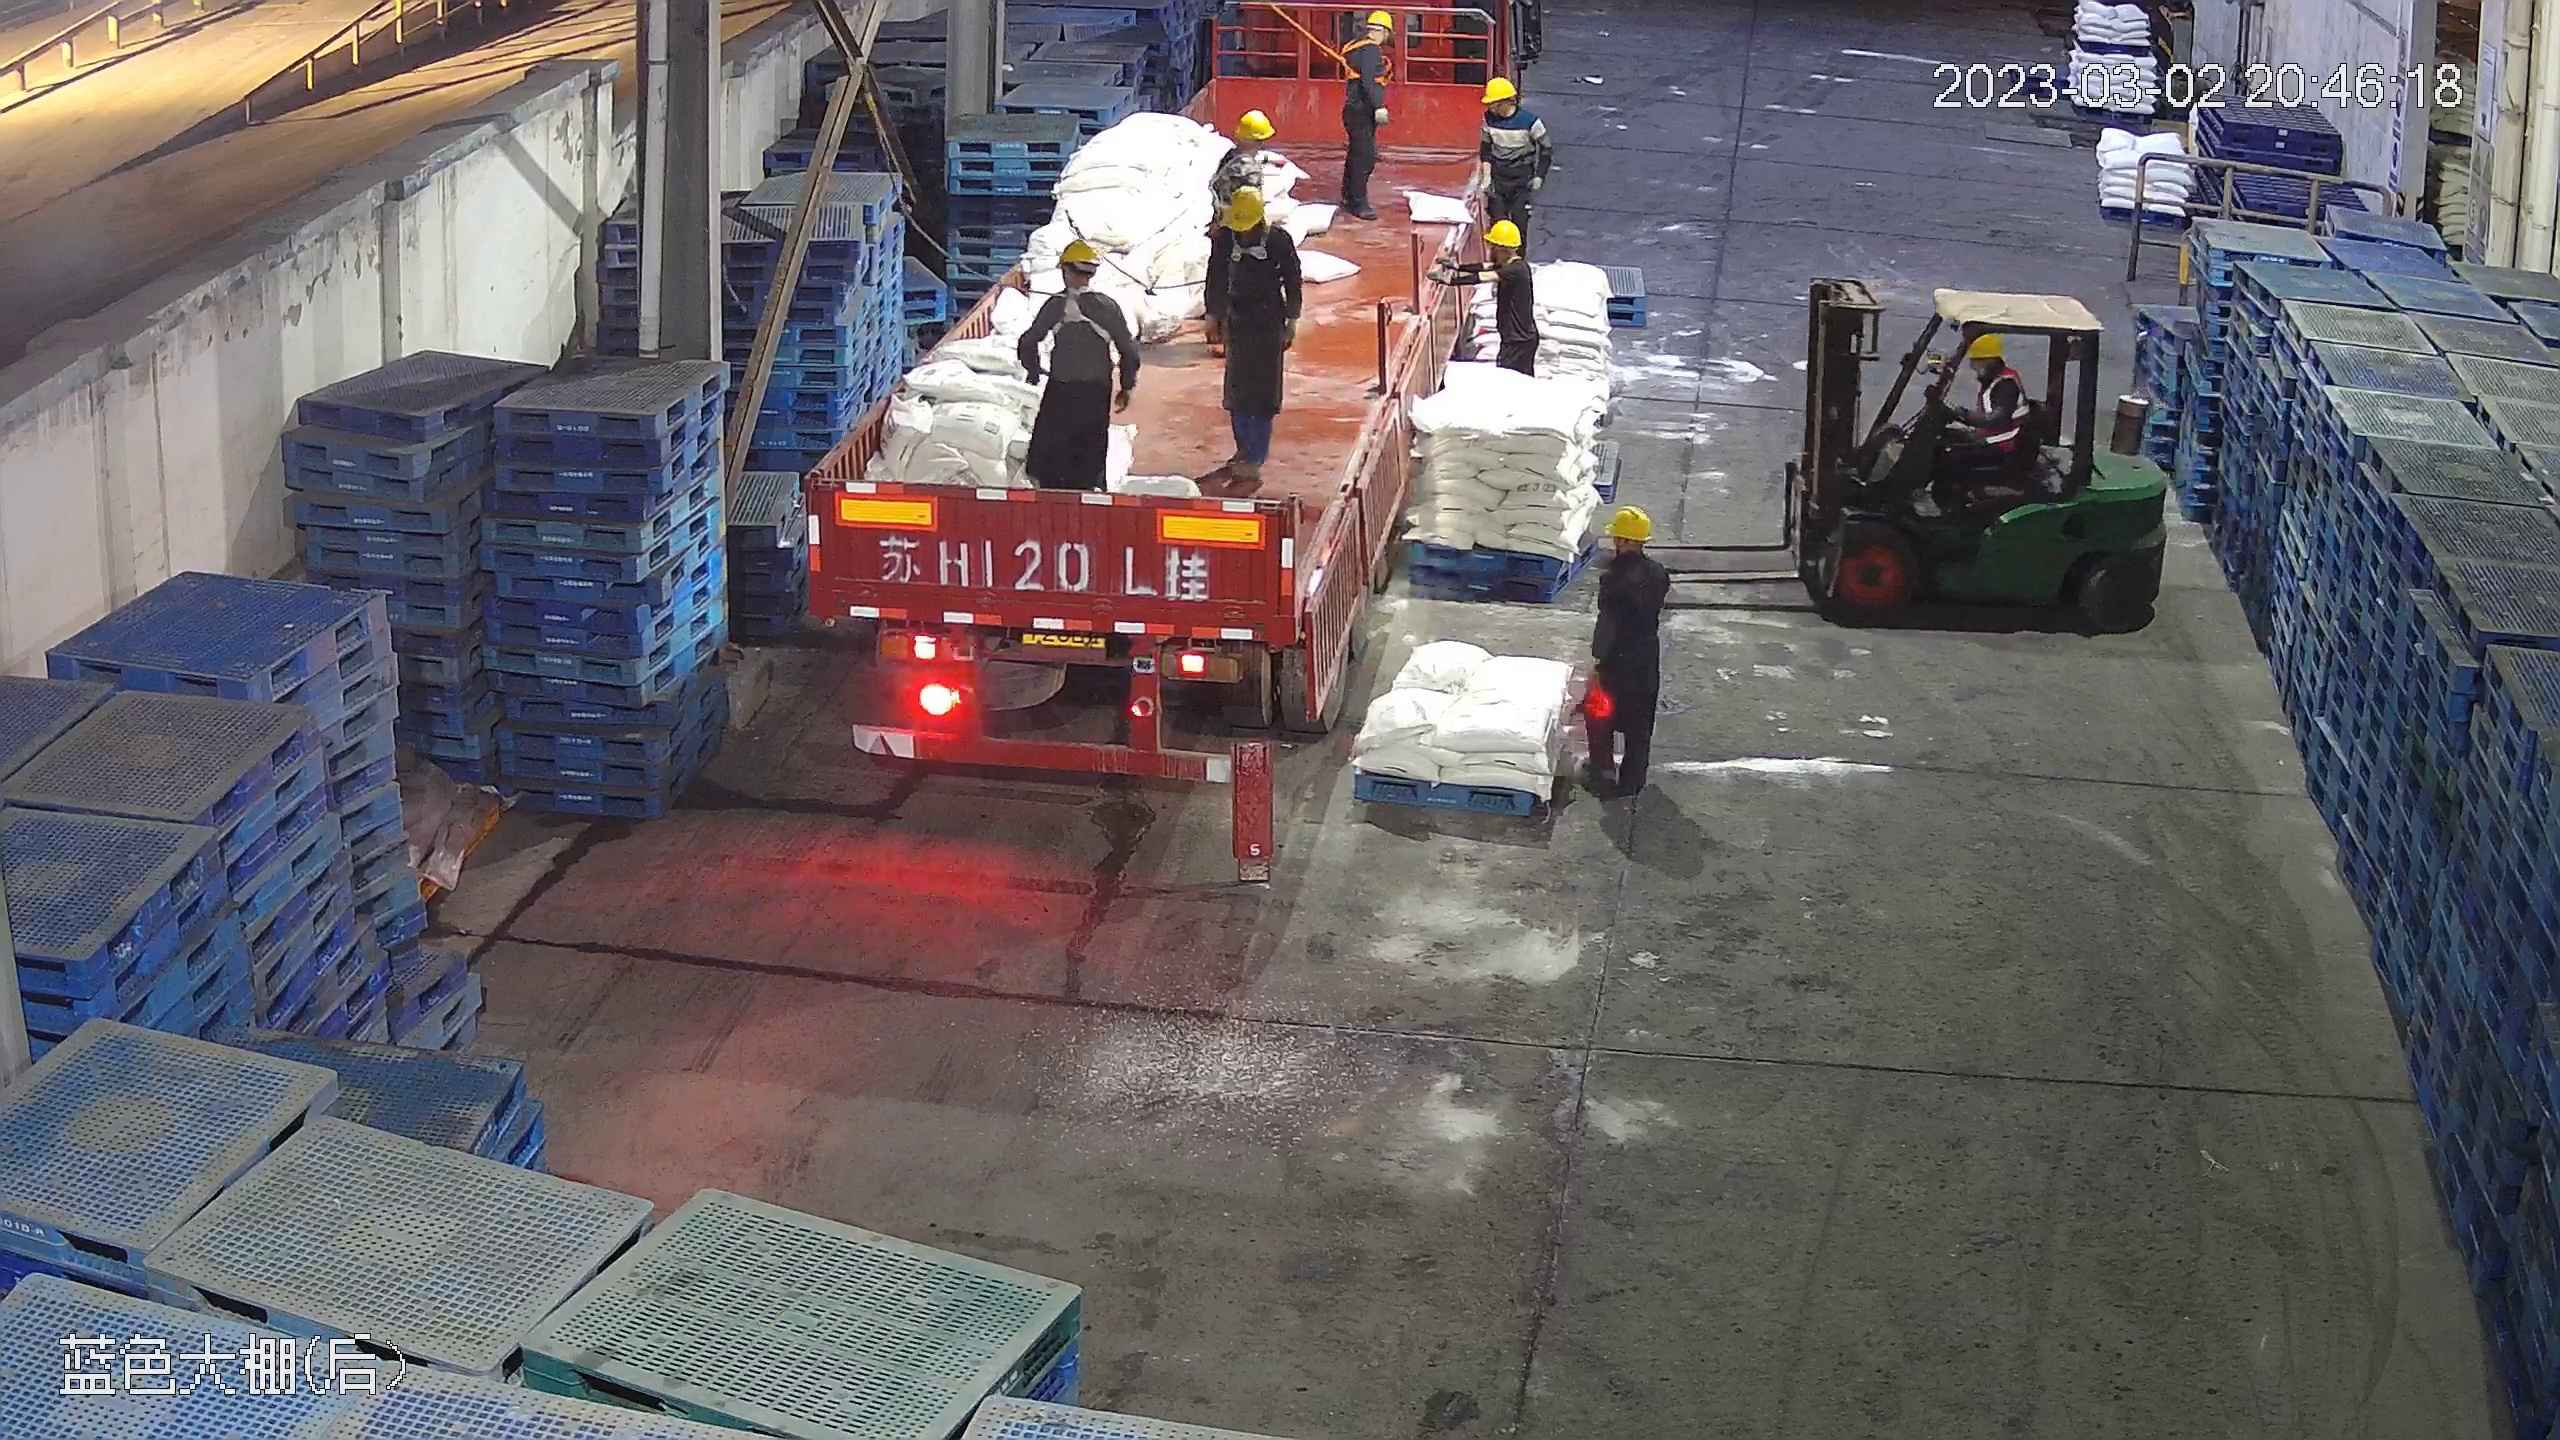belt: (1042, 281, 1115, 346), (1218, 204, 1287, 263), (1341, 30, 1391, 83), (1207, 151, 1239, 201)
head: (1033, 236, 1127, 328), (1589, 503, 1666, 603), (1208, 181, 1296, 265), (1959, 330, 2023, 407), (1476, 72, 1543, 141), (1212, 107, 1281, 173), (1474, 218, 1530, 286), (1345, 10, 1398, 62)
helmet: (1217, 184, 1266, 231), (1602, 504, 1653, 540), (1055, 236, 1100, 269), (1962, 331, 2006, 360), (1230, 108, 1272, 139), (1484, 217, 1524, 246), (1482, 73, 1518, 104), (1365, 8, 1396, 33)
people: (1016, 234, 1140, 491), (1201, 179, 1301, 489), (1571, 501, 1671, 807), (1908, 328, 2031, 516), (1331, 5, 1398, 220), (1471, 72, 1549, 254)
truck: (804, 31, 1470, 765)
